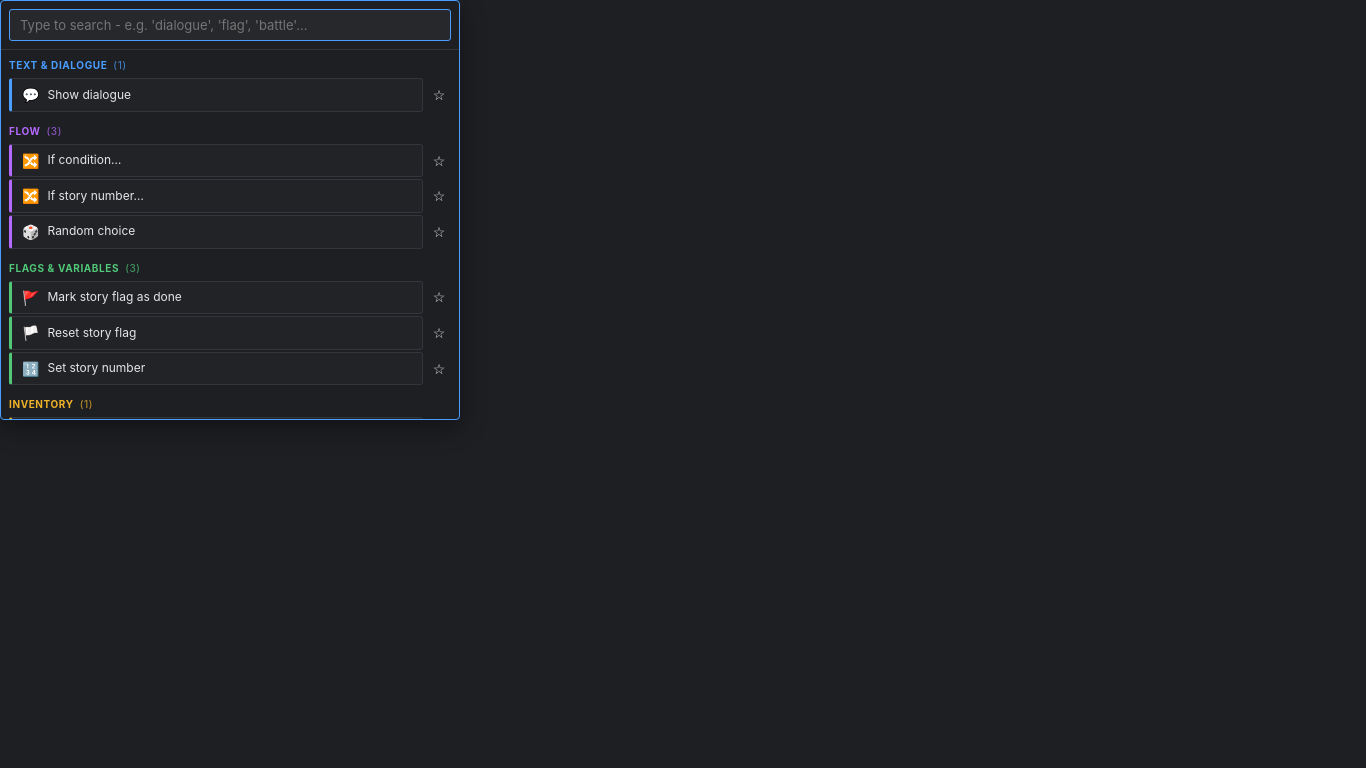
AddEventPopover › shows empty state when filter has no matches
In the search field with test id "add-event-popover-filter": (230, 25) top-left (9, 9), bottom-right (451, 41), type "doesnotexist"
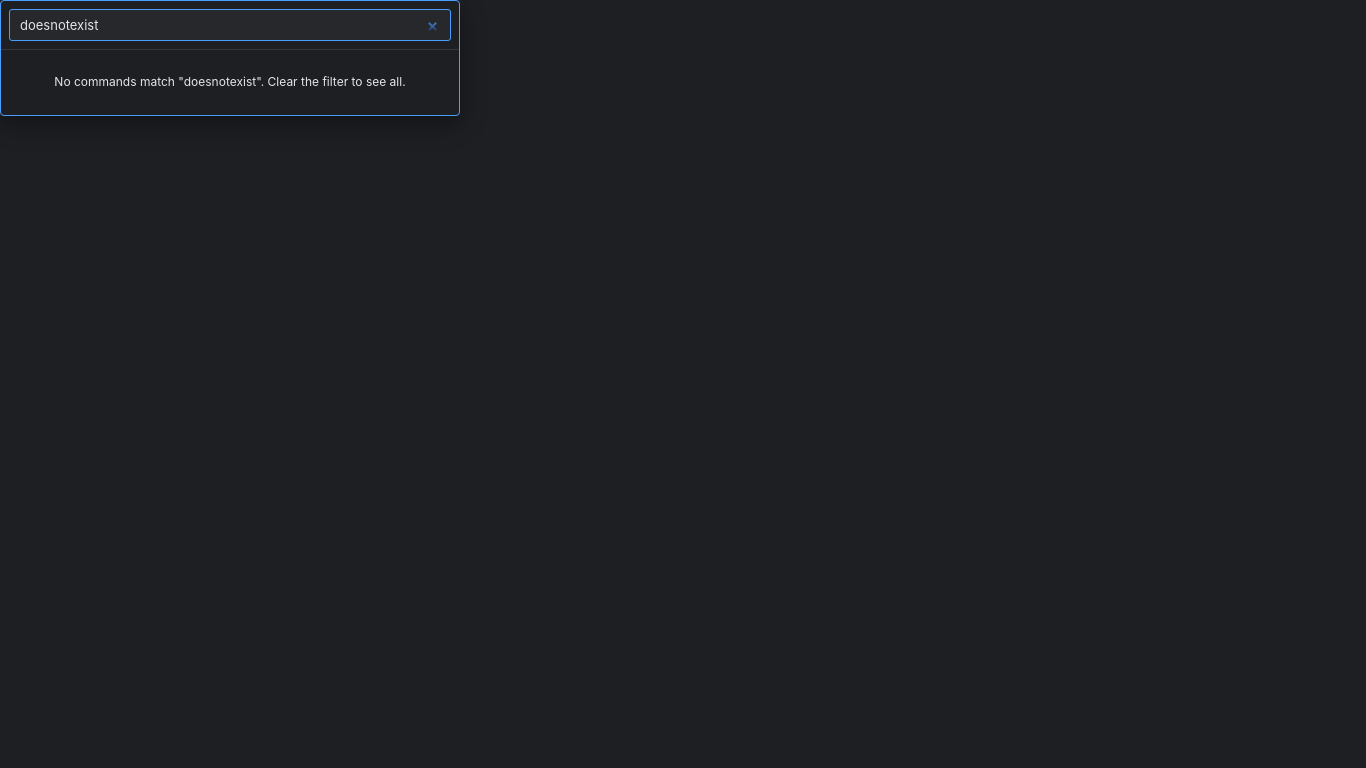
Now the text with test id "add-event-popover-empty" is shown, box top-left (54, 74), bottom-right (406, 89)
